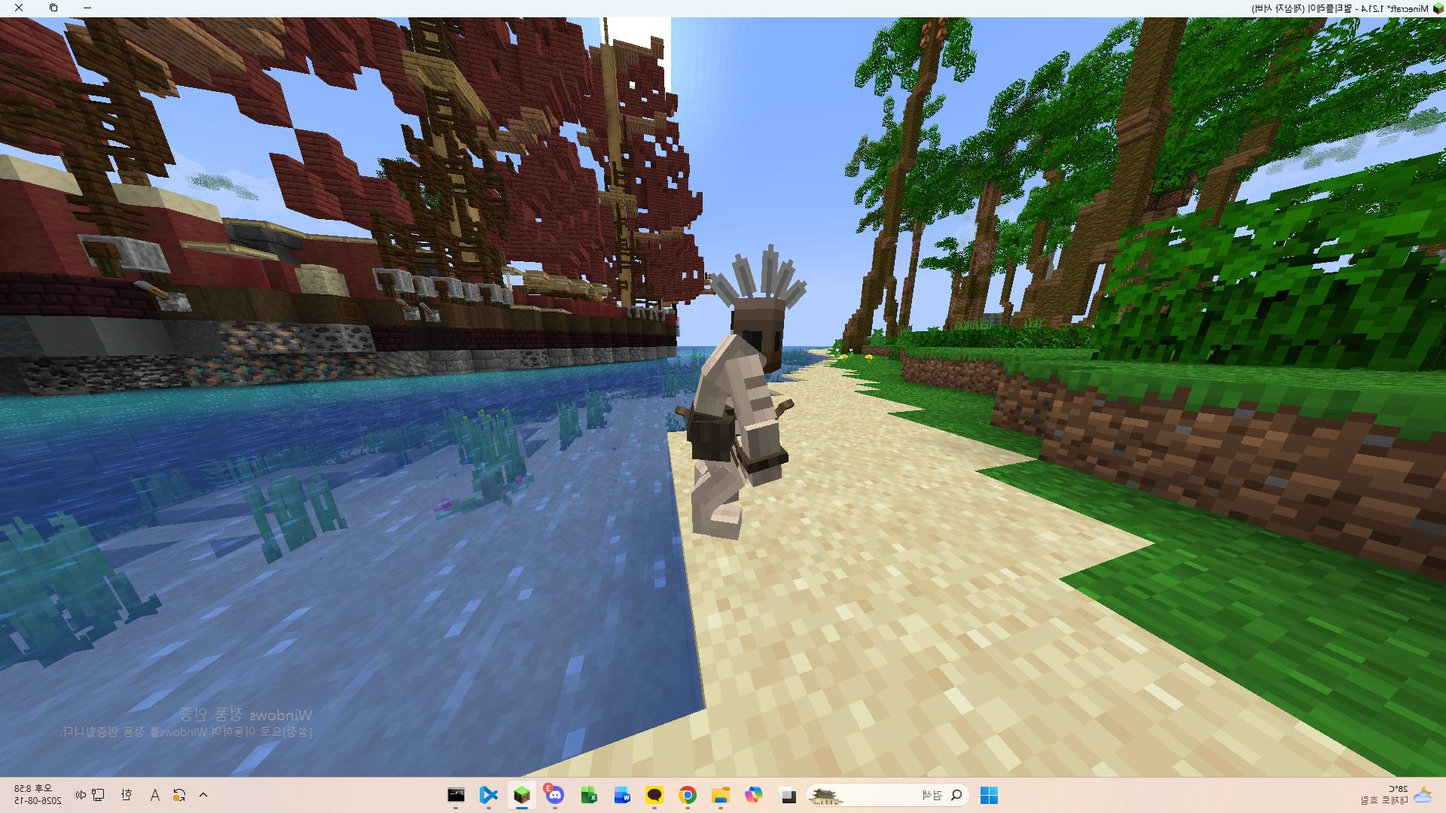bow_indian: (635, 236, 833, 558)
